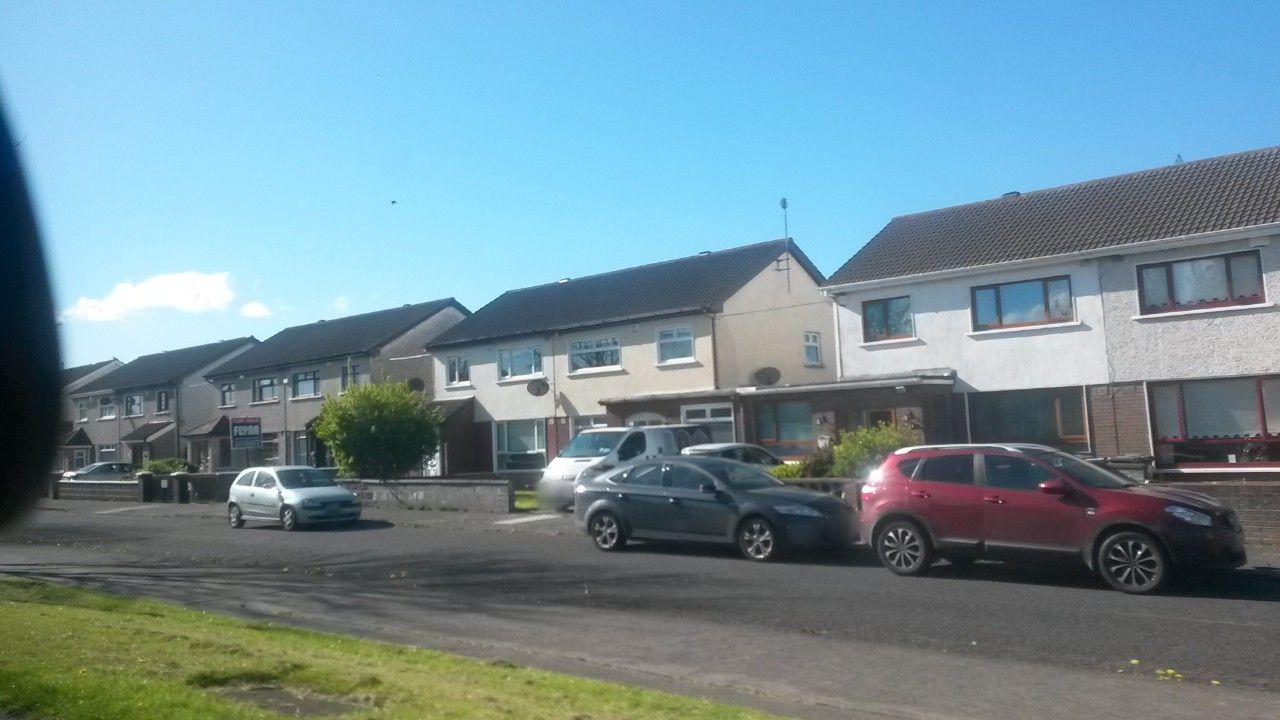property sign: (223, 408, 275, 455)
